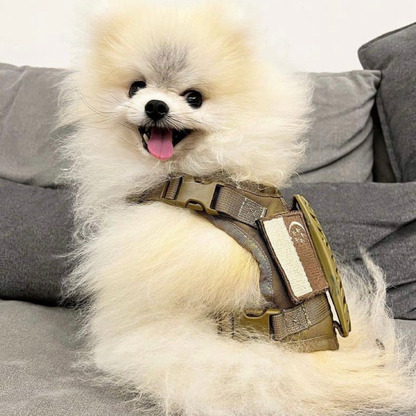Pomeranian: (57, 17, 388, 404)
